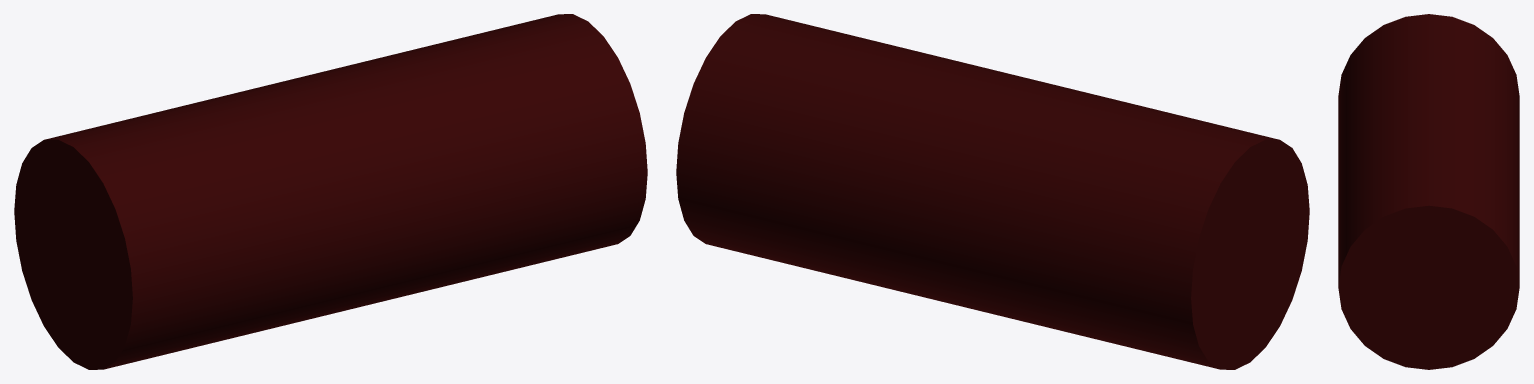
The model's file is original-43.obj.
The picture shows the model from 3 angles, left to right: view 1: azimuth 30°, elevation 25°; view 2: azimuth 150°, elevation 25°; view 3: azimuth 270°, elevation 25°; orthographic projection. The views are drawn at different scales.
Visible parts, largest first — view 1: group_19/ID301#ID301; view 2: group_19/ID301#ID301; view 3: group_19/ID301#ID301.
Part boxes in pixels (box(x1,y1,x2,y2)): group_19/ID301#ID301: box(14, 14, 647, 369); group_19/ID301#ID301: box(676, 14, 1309, 369); group_19/ID301#ID301: box(1338, 14, 1519, 369).
Size of the model in its own units: 0.0408 by 0.0163 by 0.0163.
